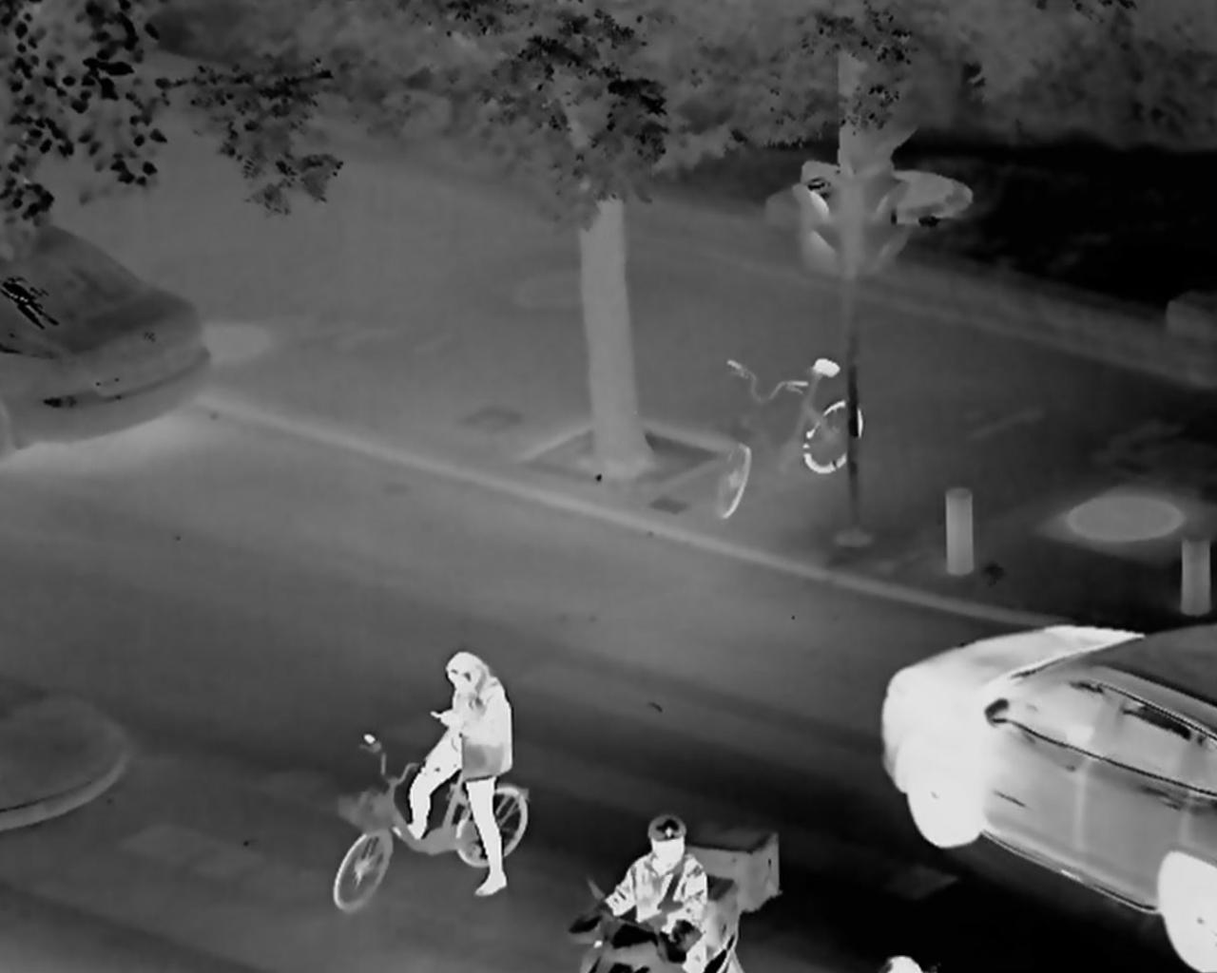person: (405, 651, 519, 895), (592, 814, 708, 973)
